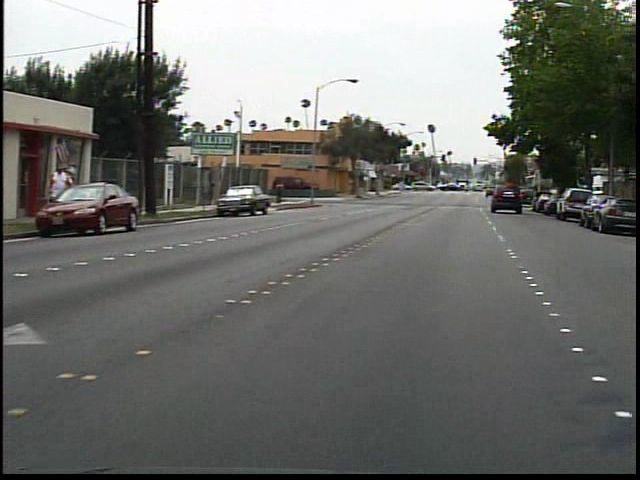person: (52, 159, 83, 229), (278, 179, 293, 209)
